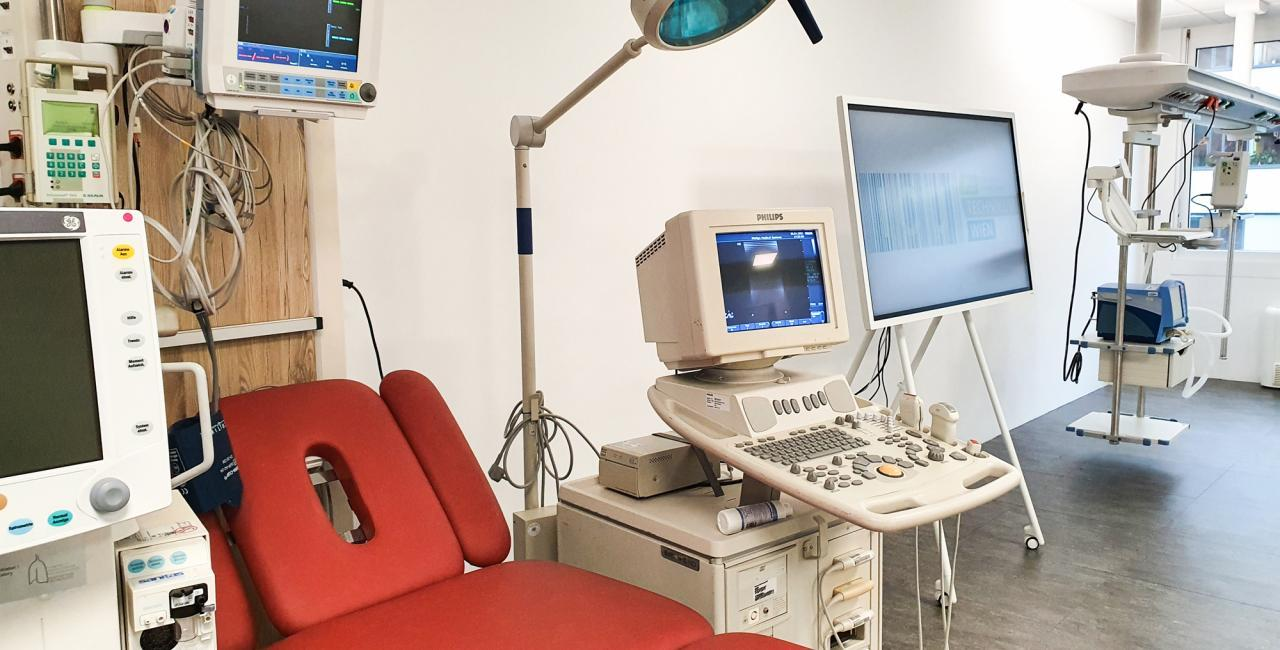bedside_monitor: (1, 201, 174, 547), (839, 103, 1038, 328), (193, 1, 387, 128)
computer: (674, 211, 839, 344)
exam_table: (178, 370, 811, 650)
keyboard: (737, 425, 872, 474)
